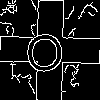O: (25, 25, 65, 72)
